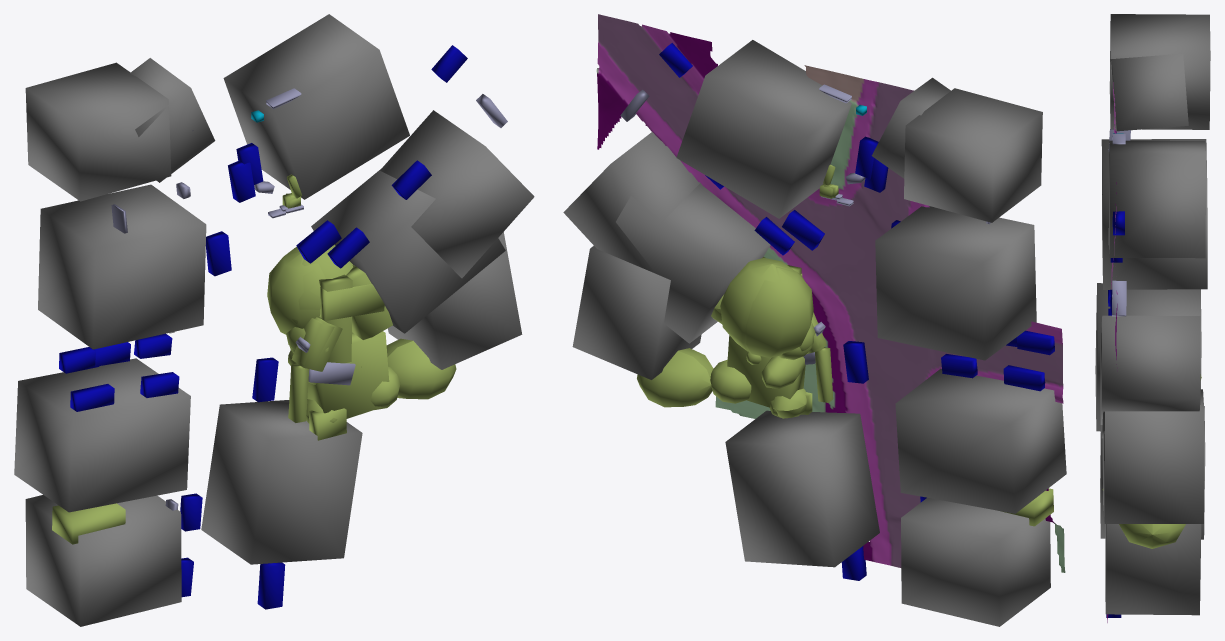
3 views of the same model, side by side, from view 1: azimuth 30°, elevation 25°; view 2: azimuth 150°, elevation 25°; view 3: azimuth 270°, elevation 25° (orthographic). The views are drawn at different scales.
Bounding box in the file's own units: 63.75 × 68.74 × 13.76.
